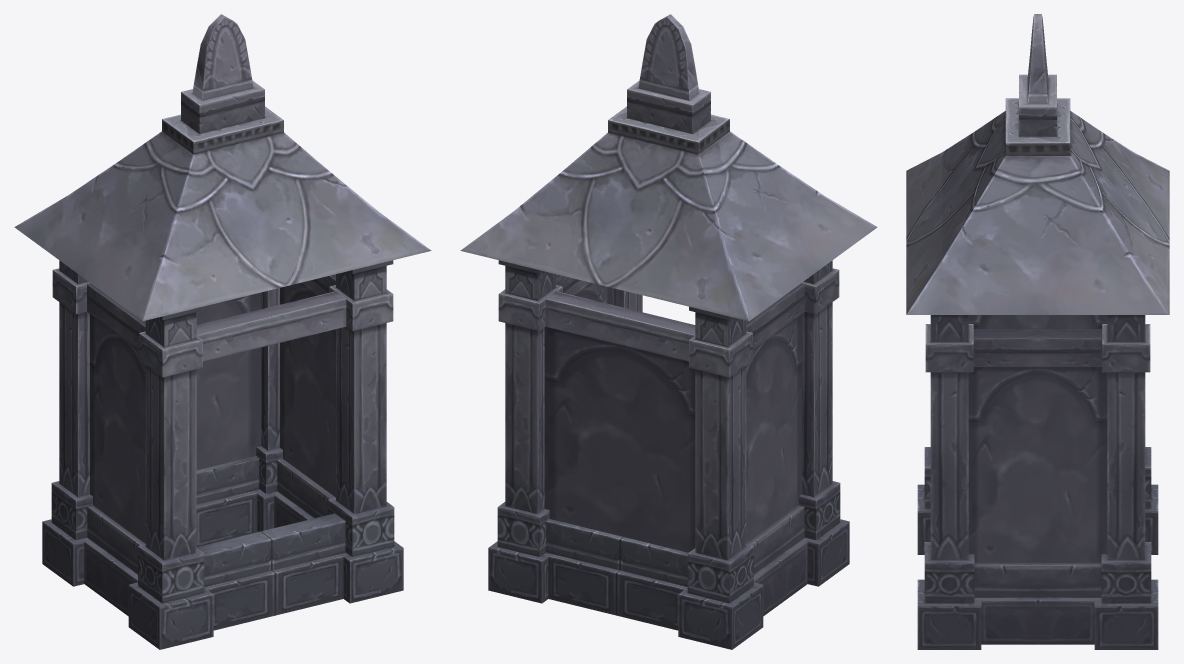
File: Stage_DiXiaCheng_FoKan.FBX
The picture shows the model from 3 angles, left to right: view 1: azimuth 30°, elevation 25°; view 2: azimuth 150°, elevation 25°; view 3: azimuth 270°, elevation 25°; orthographic projection. The views are drawn at different scales.
Parts seen in each view (by area): view 1: Stage_DiXiaCheng_FoKan; view 2: Stage_DiXiaCheng_FoKan; view 3: Stage_DiXiaCheng_FoKan.
Part boxes in pixels (left/top/right/bottom): Stage_DiXiaCheng_FoKan: left=14, top=14, right=431, bottom=649; Stage_DiXiaCheng_FoKan: left=460, top=14, right=877, bottom=649; Stage_DiXiaCheng_FoKan: left=906, top=14, right=1169, bottom=649.
Bounding box in the file's own units: 236 × 438 × 181.
